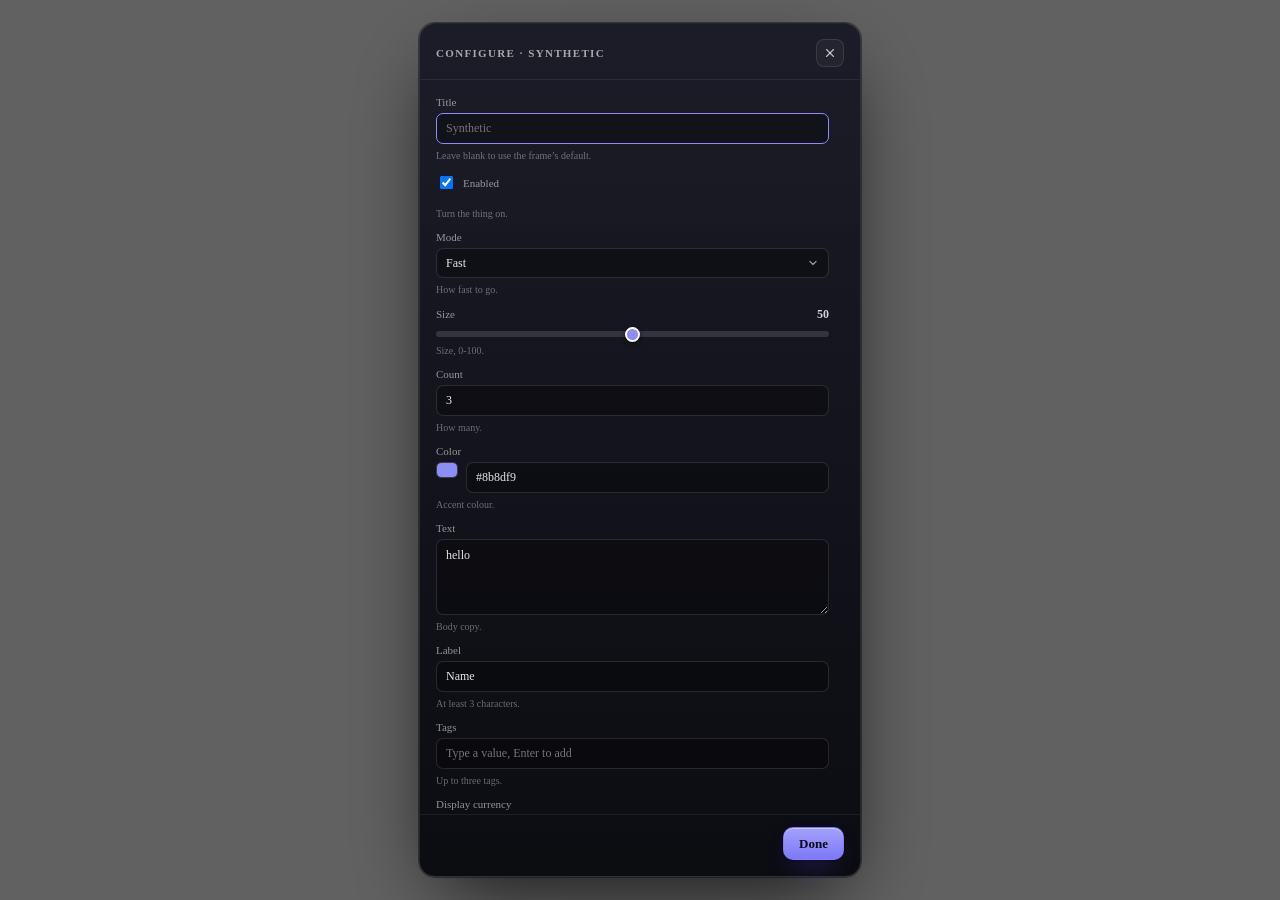
Test: FrameConfigDialog control dispatch › string[] → a tag list that preserves case, caps at maxItems, removes
This screenshot has width=1280, height=900.
Type "uniswap" into the field with id "zf-cfg-tags" at (632, 754), box [436,738,829,769]
Press Enter in the field with id "zf-cfg-tags", box [436,738,829,769]
Wait 200 ms
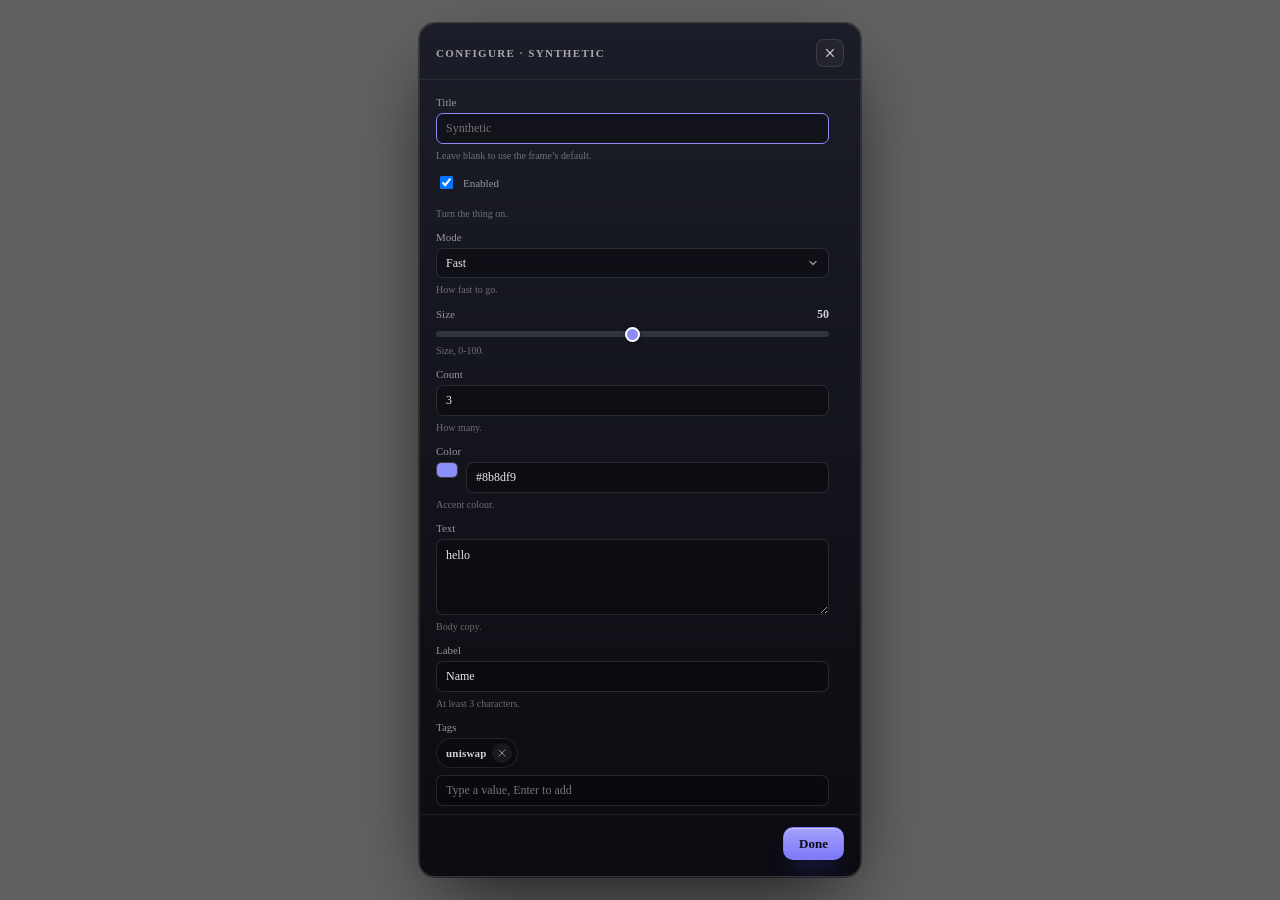
expect the button named "Remove uniswap" is shown: met, box [492,743,512,763]
Type "halfHour" into the field with id "zf-cfg-tags" at (632, 790), box [436,775,829,806]
Wait 200 ms
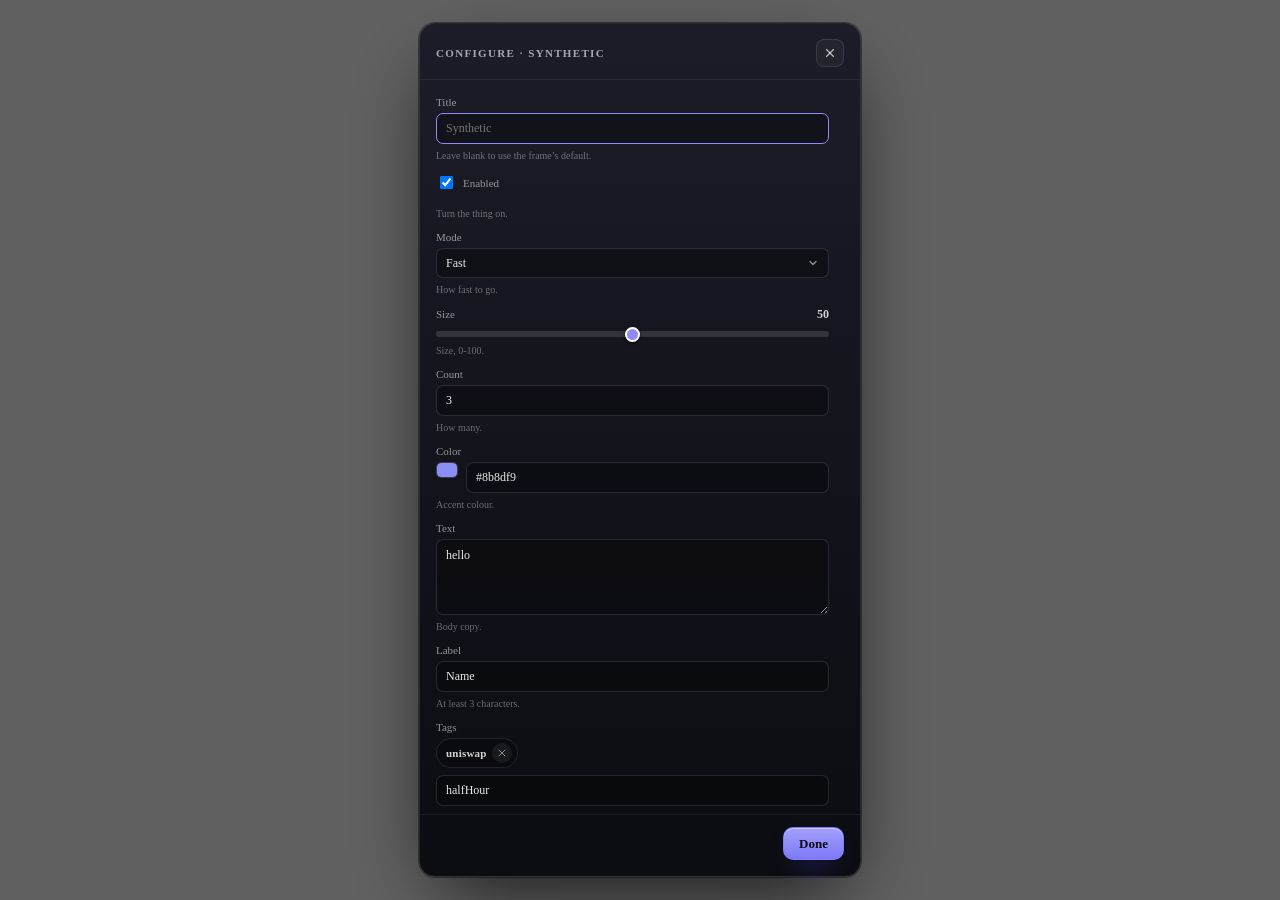
Press Enter in the field with id "zf-cfg-tags", box [436,775,829,806]
Wait 200 ms
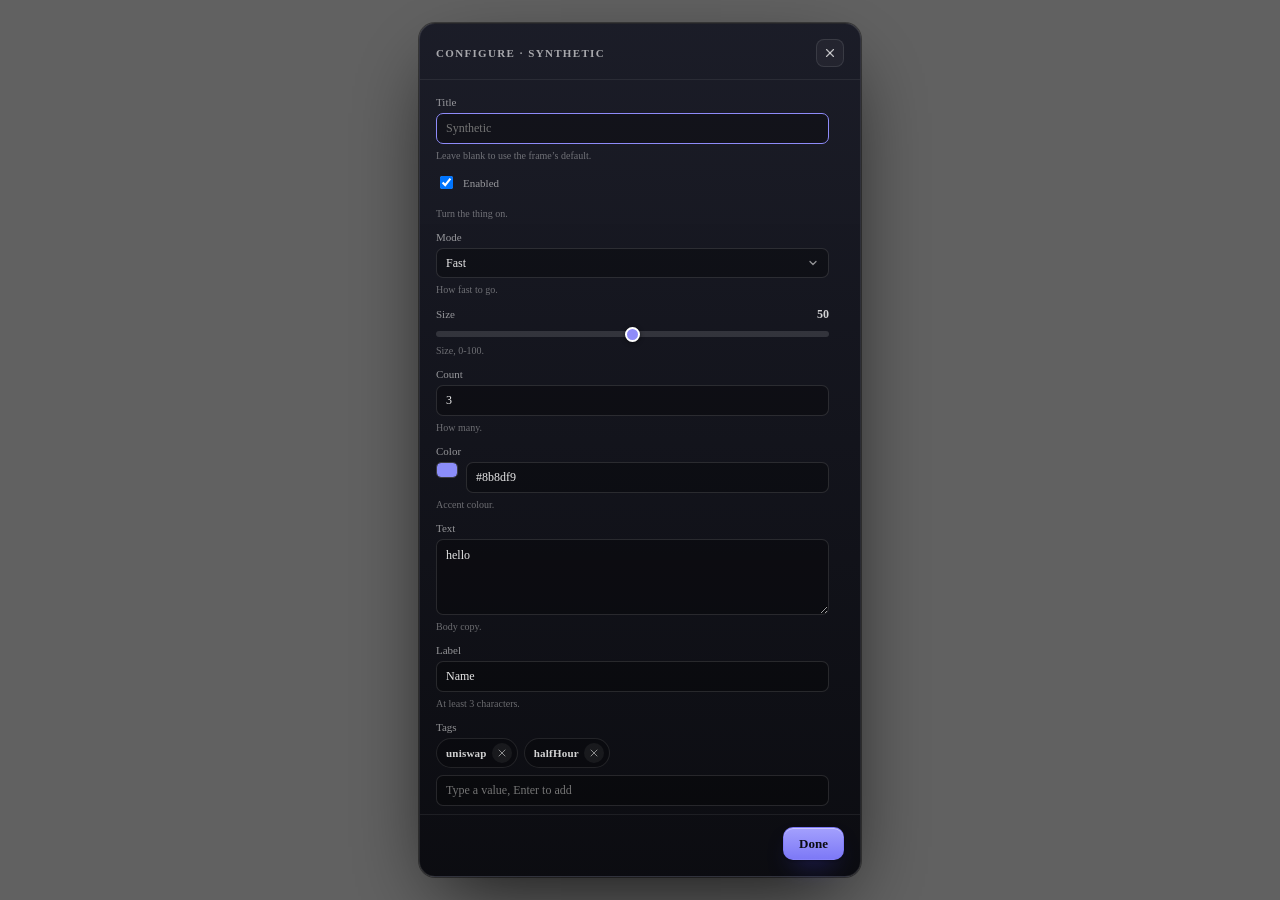
Type "Cut losers fast" into the field with id "zf-cfg-tags" at (632, 790), box [436,775,829,806]
Wait 200 ms
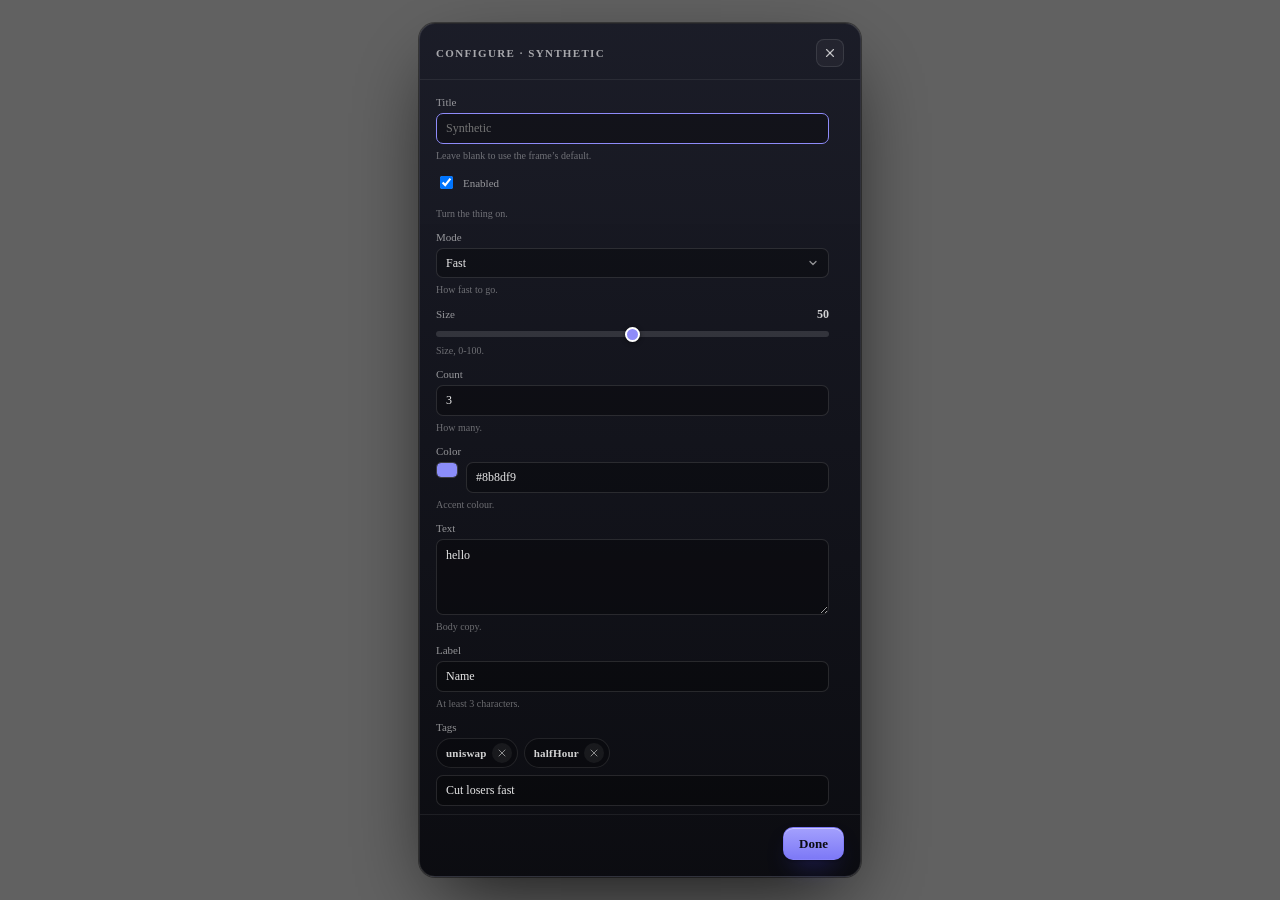
Press Enter in the field with id "zf-cfg-tags", box [436,775,829,806]
Wait 200 ms
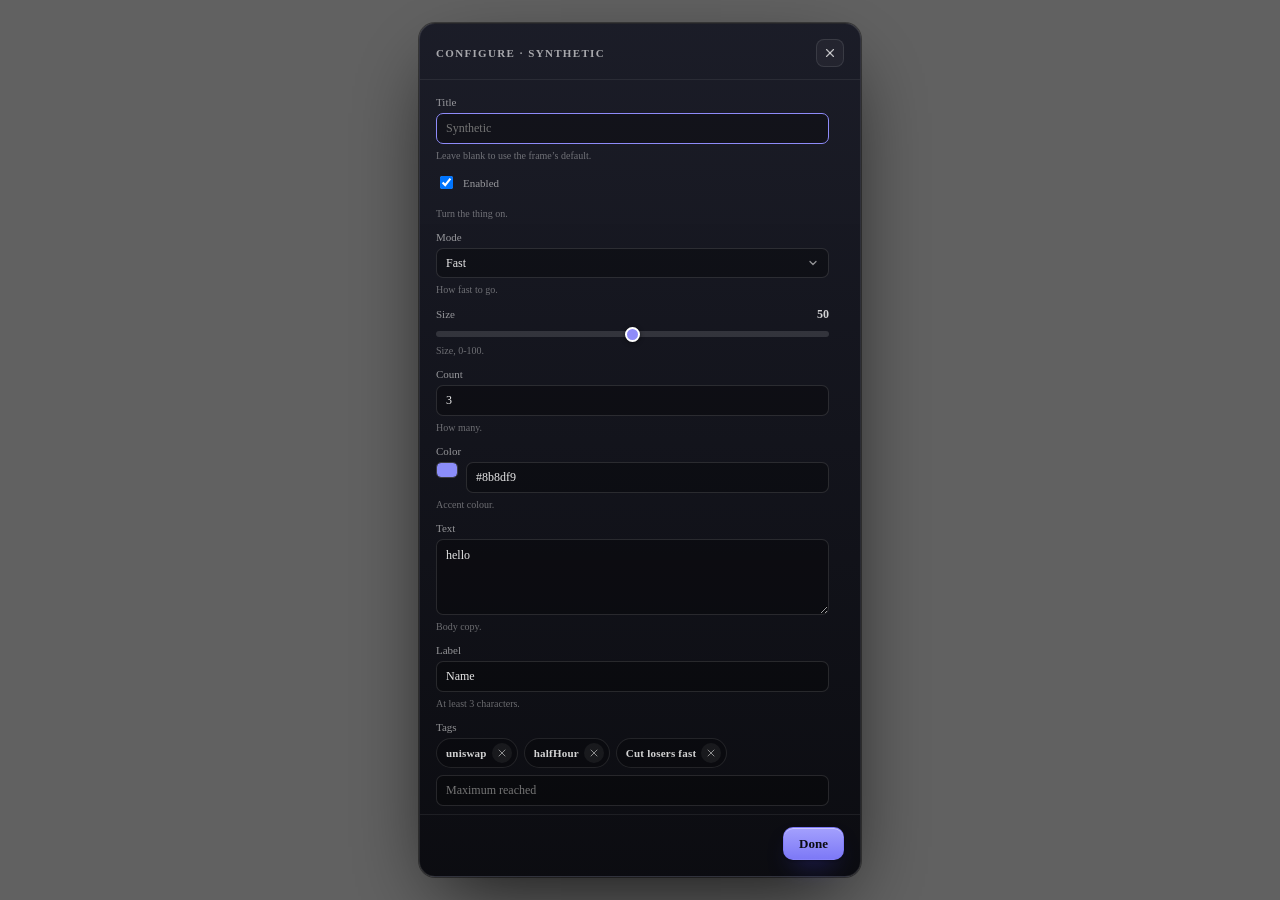
expect the field with id "zf-cfg-tags" is disabled: met, box [436,775,829,806]
Click the button named "Remove halfHour" at (594, 753), box [584,743,604,763]
Wait 200 ms
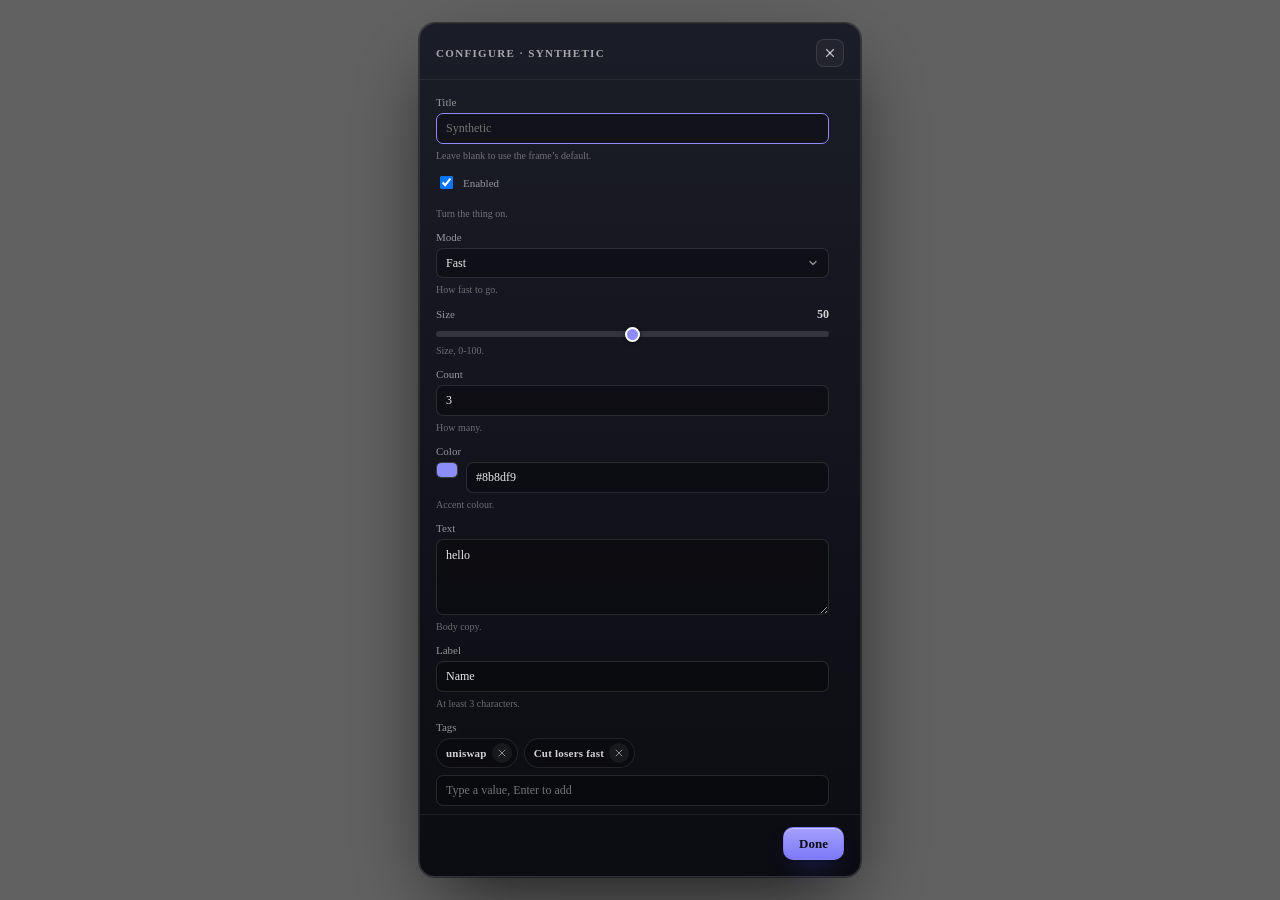
expect the field with id "zf-cfg-tags" is enabled: met, box [436,775,829,806]
